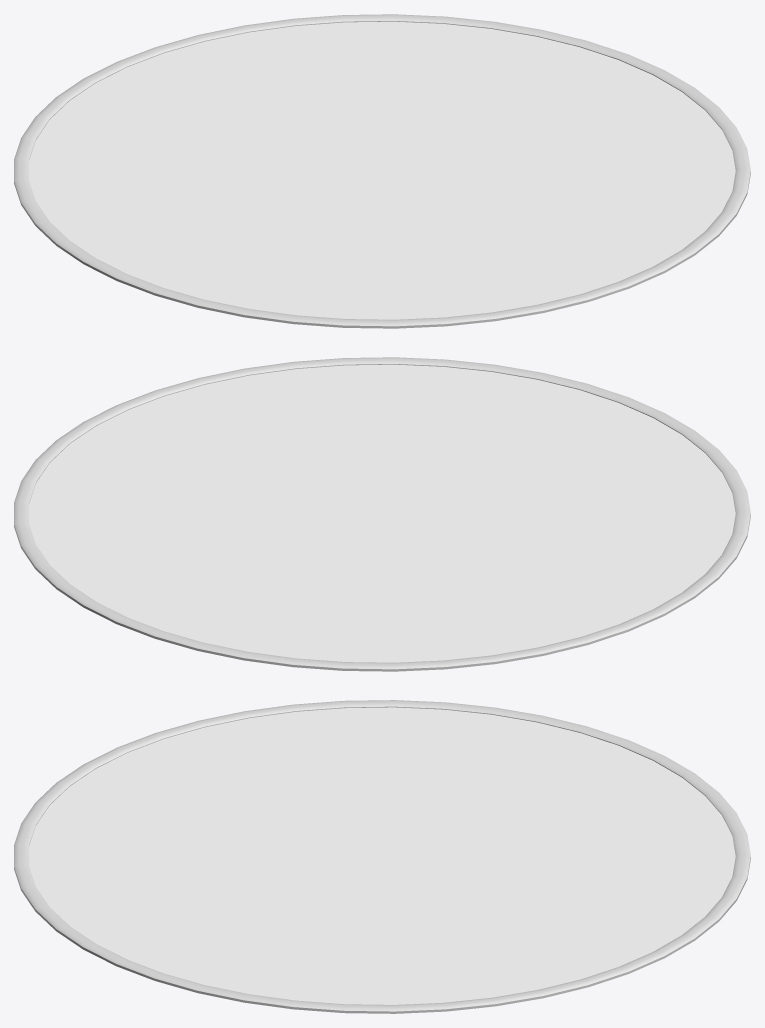
Rendered from plate.fbx.
3 renders of one model, top to bottom at view 1: azimuth 30°, elevation 25°; view 2: azimuth 150°, elevation 25°; view 3: azimuth 270°, elevation 25°, orthographic.
Visible parts, largest first — view 1: Plate, Plate Out; view 2: Plate, Plate Out; view 3: Plate, Plate Out.
Boxes of the visible parts, x1,y1,x2,y2 form: Plate: [29, 21, 735, 319]; Plate Out: [14, 14, 750, 328]; Plate: [29, 364, 735, 662]; Plate Out: [14, 357, 750, 671]; Plate: [29, 707, 735, 1004]; Plate Out: [14, 700, 750, 1013].
Bounding box in the file's own units: 417 × 2.22 × 417.
